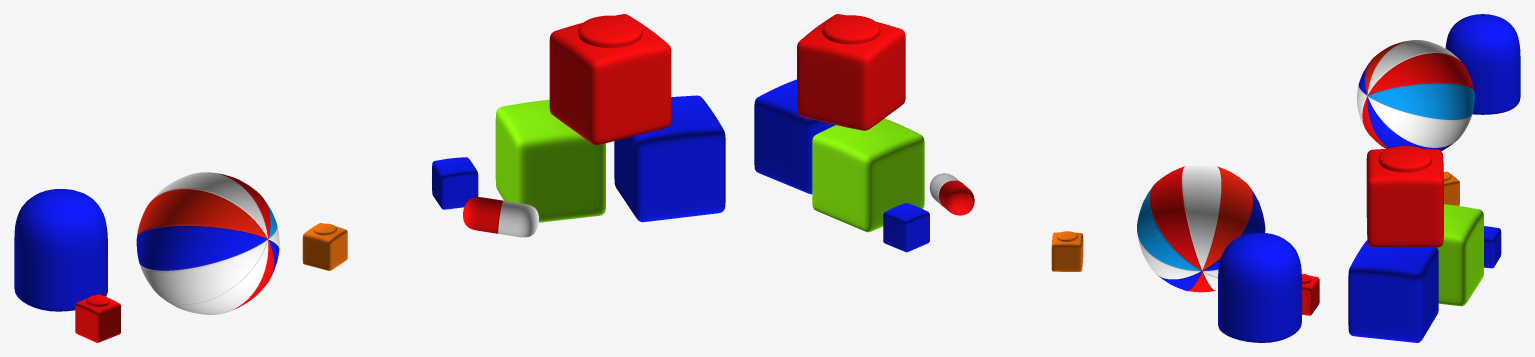
File: Decor.FBX
The picture shows the model from 3 angles, left to right: view 1: azimuth 30°, elevation 25°; view 2: azimuth 150°, elevation 25°; view 3: azimuth 270°, elevation 25°; orthographic projection. The views are drawn at different scales.
Visible parts, largest first — view 1: OBJ decor; view 2: OBJ decor; view 3: OBJ decor.
Part boxes in pixels (<box>): OBJ decor: <box>14,14,725,342</box>; OBJ decor: <box>754,14,1319,342</box>; OBJ decor: <box>1348,14,1520,342</box>.
Size of the model in its own units: 69.65 by 19.79 by 19.64.
